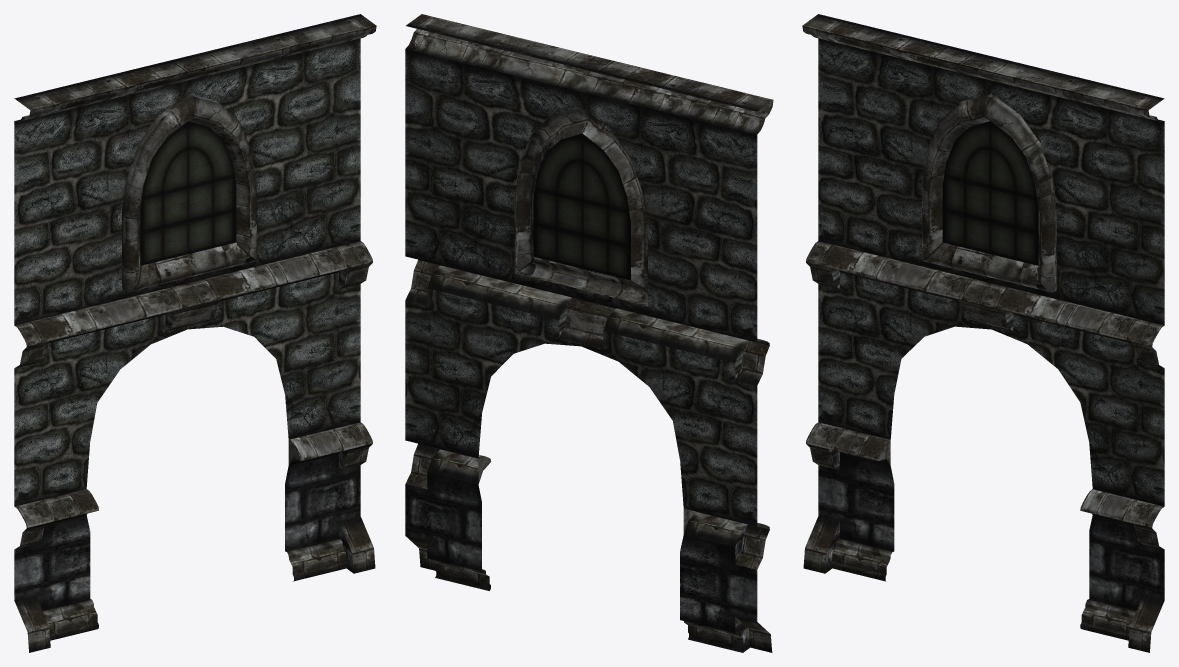
The model's file is door_way_window_off.DAE.
The picture shows the model from 3 angles, left to right: view 1: azimuth 30°, elevation 25°; view 2: azimuth 150°, elevation 25°; view 3: azimuth 330°, elevation 25°; orthographic projection.
Parts seen in each view (by area): view 1: Object133, Object132, Object134, Object135; view 2: Object132, Object133, Object134, Object135; view 3: Object133, Object132, Object134, Object135.
Boxes of the visible parts, <box> form: Object133: <box>14,241,375,652</box>; Object132: <box>14,14,376,325</box>; Object134: <box>140,121,236,265</box>; Object135: <box>122,93,256,292</box>; Object132: <box>405,14,773,341</box>; Object133: <box>405,259,772,652</box>; Object134: <box>533,133,630,280</box>; Object135: <box>514,107,647,306</box>; Object133: <box>803,241,1164,652</box>; Object132: <box>802,14,1164,325</box>; Object134: <box>942,121,1038,265</box>; Object135: <box>922,93,1056,292</box>.
Bounding box in the file's own units: 4 × 6 × 0.3222.
